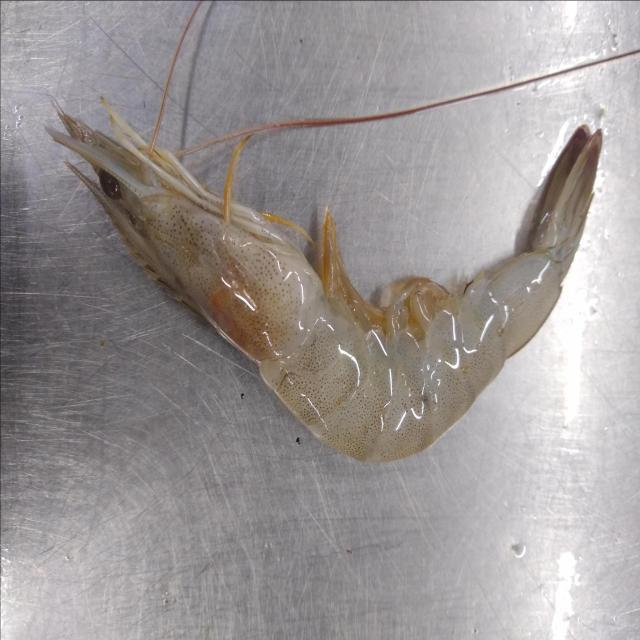shrimp: (47, 98, 602, 461)
